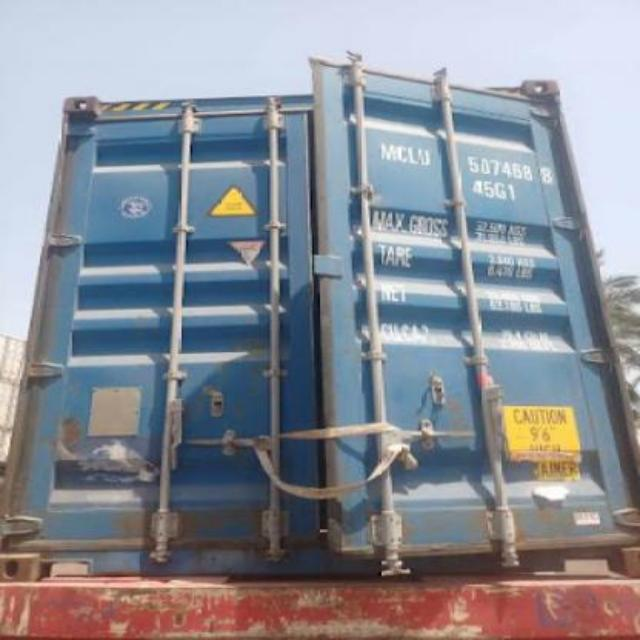0: (480, 157, 490, 176)
4: (500, 160, 512, 178)
5: (466, 154, 479, 174)
6: (512, 162, 522, 180)
7: (489, 158, 501, 176)
8: (539, 164, 555, 186), (522, 164, 534, 182)
C: (394, 143, 408, 165)
L: (407, 146, 419, 166)
M: (378, 142, 396, 162)
U: (418, 147, 432, 167)
